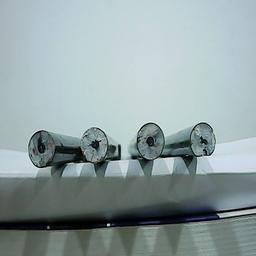pen: (24, 128, 55, 167), (78, 125, 109, 164), (134, 121, 165, 160), (190, 120, 217, 157)
